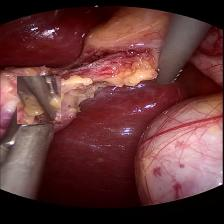Grasper: (17, 75, 61, 123)
Irrigator: (152, 55, 190, 84)
